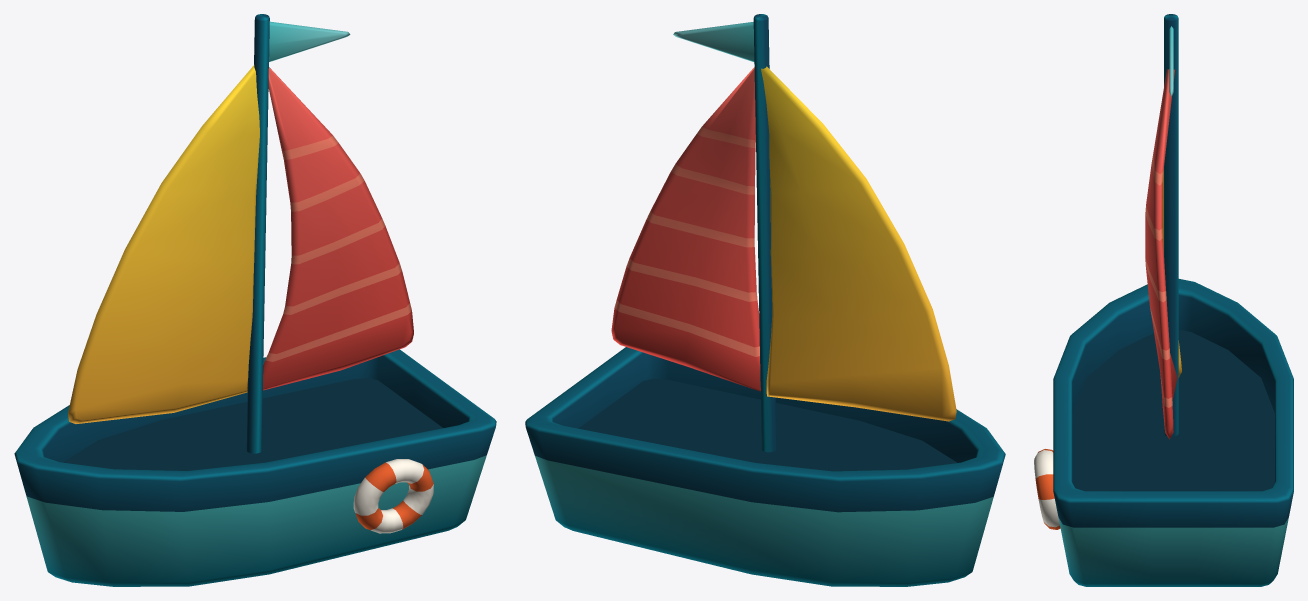
Rendered from sailboat.fbx.
The picture shows the model from 3 angles, left to right: view 1: azimuth 30°, elevation 25°; view 2: azimuth 150°, elevation 25°; view 3: azimuth 270°, elevation 25°; orthographic projection. The views are drawn at different scales.
Visible parts, largest first — view 1: sailboat; view 2: sailboat; view 3: sailboat.
Part boxes in pixels (x1,y1,x2,y2): sailboat: (14,14,496,586); sailboat: (525,14,1005,586); sailboat: (1034,14,1293,586).
Size of the model in its own units: 1.38 by 1.6 by 0.7506.
